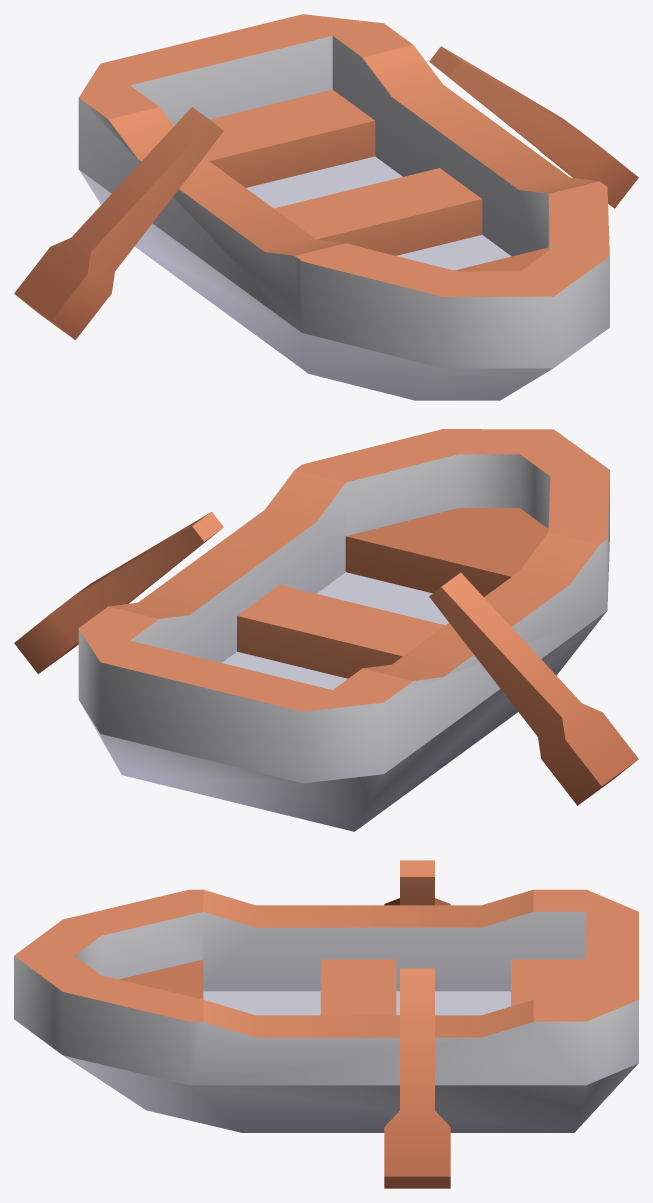
File: boat_0.fbx
The picture shows the model from 3 angles, top to bottom: view 1: azimuth 30°, elevation 25°; view 2: azimuth 150°, elevation 25°; view 3: azimuth 270°, elevation 25°; orthographic projection. The views are drawn at different scales.
Visible parts, largest first — view 1: boat_0; view 2: boat_0; view 3: boat_0.
Part boxes in pixels (<box>): boat_0: <box>14,14,638,400</box>; boat_0: <box>14,429,638,831</box>; boat_0: <box>14,860,638,1188</box>.
Bounding box in the file's own units: 2.75 × 0.8477 × 2.85.
Materials: 1 (1 with a texture image).
